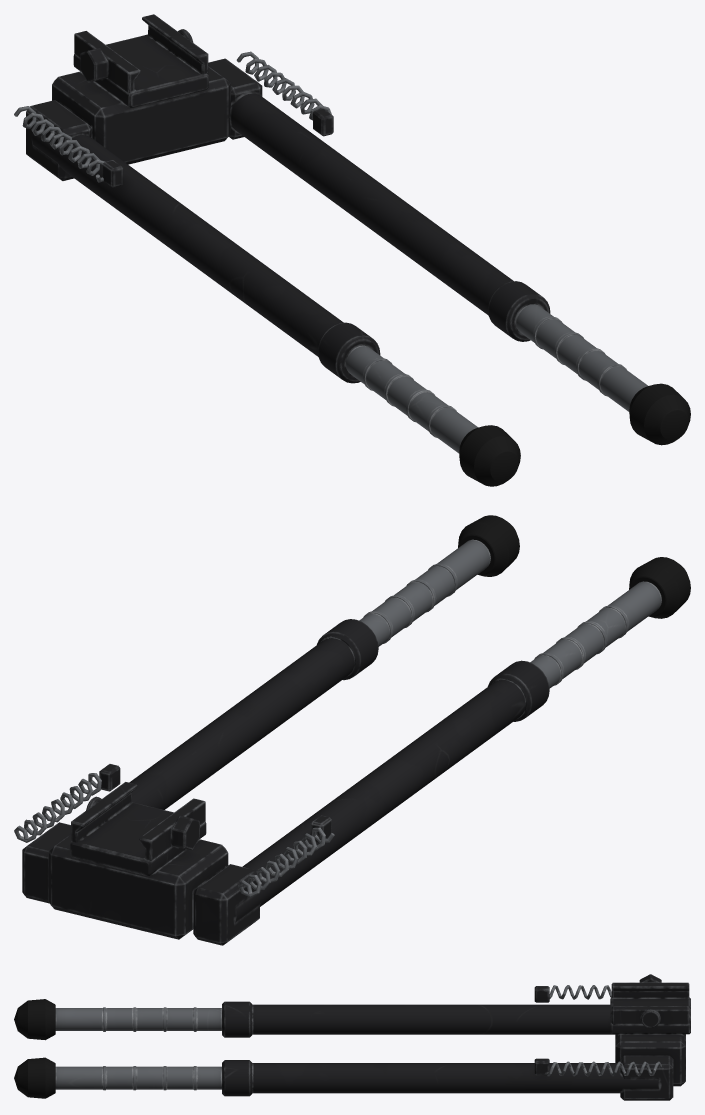
The model's file is Bipod.fbx.
3 views of the same model, one above another, from view 1: azimuth 30°, elevation 25°; view 2: azimuth 150°, elevation 25°; view 3: azimuth 270°, elevation 25° (orthographic). The views are drawn at different scales.
Visible parts, largest first — view 1: Body; view 2: Body; view 3: Body.
Part boxes in pixels (x1,y1,x2,y2): Body: (14,14,690,486); Body: (14,515,690,945); Body: (14,974,690,1100).
Bounding box in the file's own units: 0.078 × 0.0329 × 0.2685.
